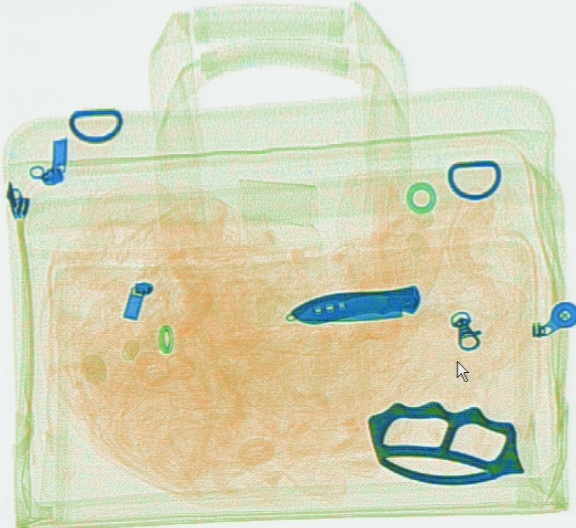knife: (287, 284, 422, 325)
